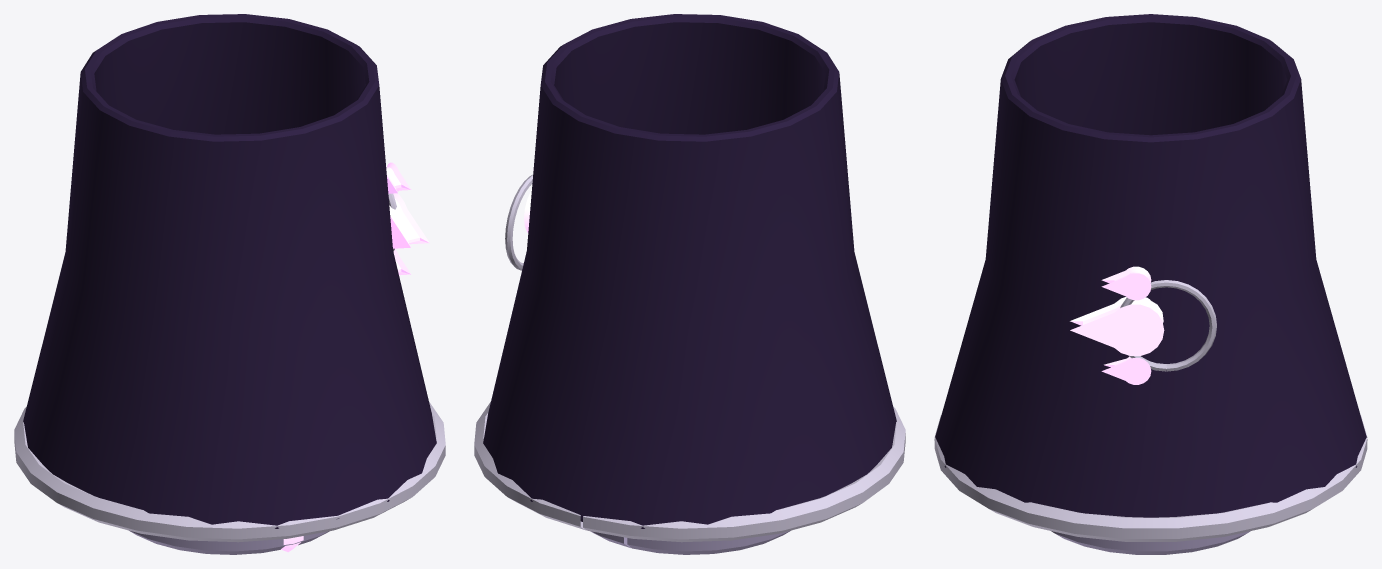
The model's file is boss_wailing_mistress_gloves_1.glb.
3 views of the same model, side by side, from view 1: azimuth 30°, elevation 25°; view 2: azimuth 150°, elevation 25°; view 3: azimuth 270°, elevation 25° (orthographic).
Parts seen in each view (by area): view 1: boss_wailing_mistress_gloves_1; view 2: boss_wailing_mistress_gloves_1; view 3: boss_wailing_mistress_gloves_1.
Boxes of the visible parts, <box> form: boss_wailing_mistress_gloves_1: <box>14,14,445,554</box>; boss_wailing_mistress_gloves_1: <box>474,14,905,554</box>; boss_wailing_mistress_gloves_1: <box>934,14,1367,554</box>.
Size of the model in its own units: 0.221 by 0.2464 by 0.2227.
